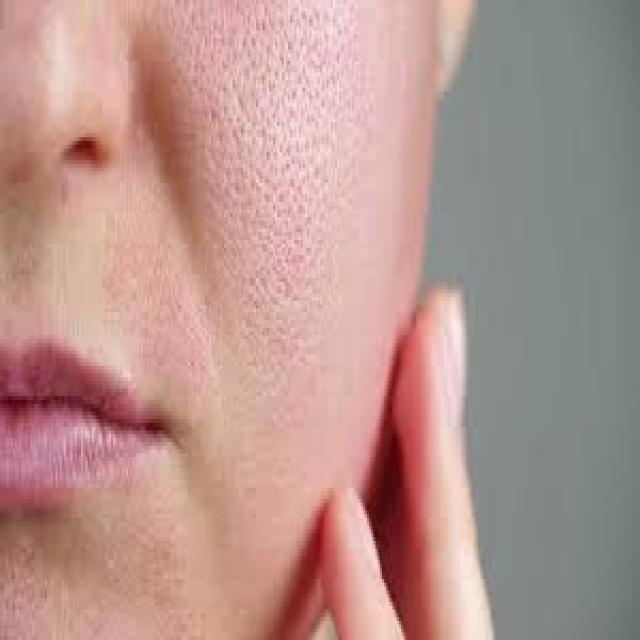Englarged-Pores: (195, 0, 328, 309)
